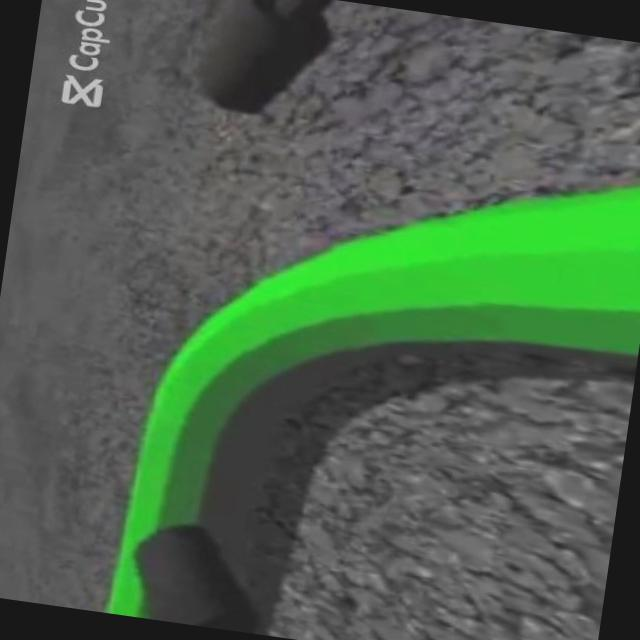gas: (181, 111, 640, 410), (124, 205, 376, 544)
